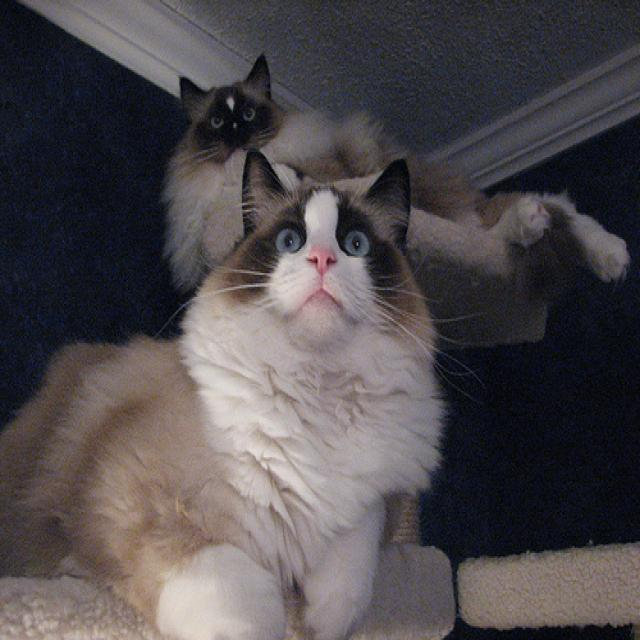Ragdoll: (218, 144, 435, 444), (176, 49, 285, 164)
